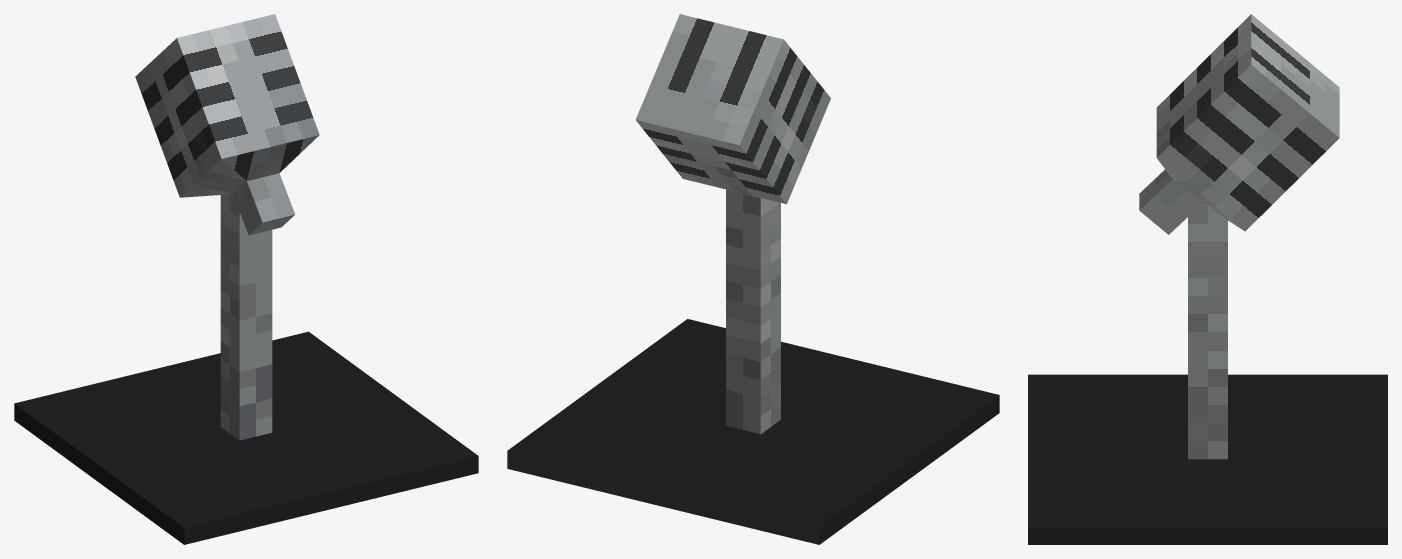
The model's file is Mic.fbx.
3 views of the same model, side by side, from view 1: azimuth 30°, elevation 25°; view 2: azimuth 150°, elevation 25°; view 3: azimuth 270°, elevation 25° (orthographic). The views are drawn at different scales.
Visible parts, largest first — view 1: cuboid, cuboid_selection; view 2: cuboid, cuboid_selection; view 3: cuboid, cuboid_selection.
Part boxes in pixels (x1,y1,x2,y2): cuboid: (14,194,478,544); cuboid_selection: (135,14,319,235); cuboid: (507,189,999,544); cuboid_selection: (635,14,830,204); cuboid: (1028,192,1387,544); cuboid_selection: (1139,14,1339,234).
Bounding box in the file's own units: 112 × 148 × 112.
2 materials, 2 textured.
